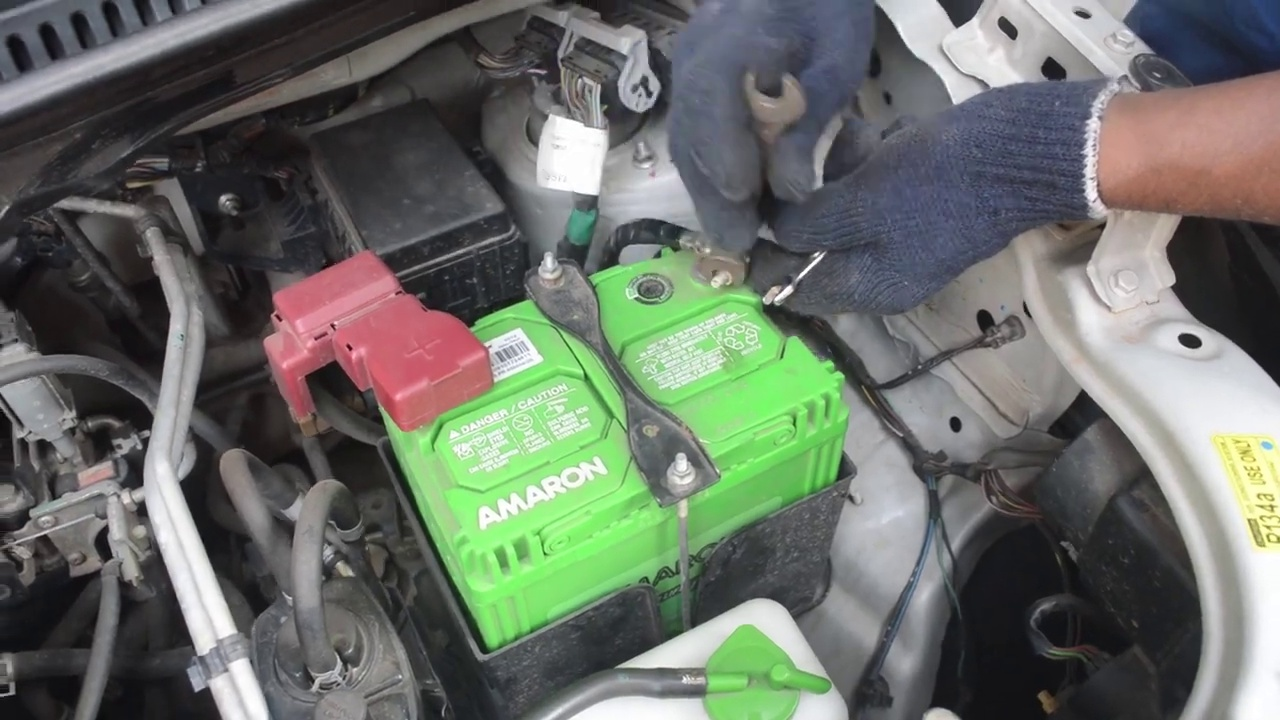battery: (365, 224, 850, 569)
neg_touched: (674, 83, 836, 334)
pos_connected: (294, 250, 504, 420)
